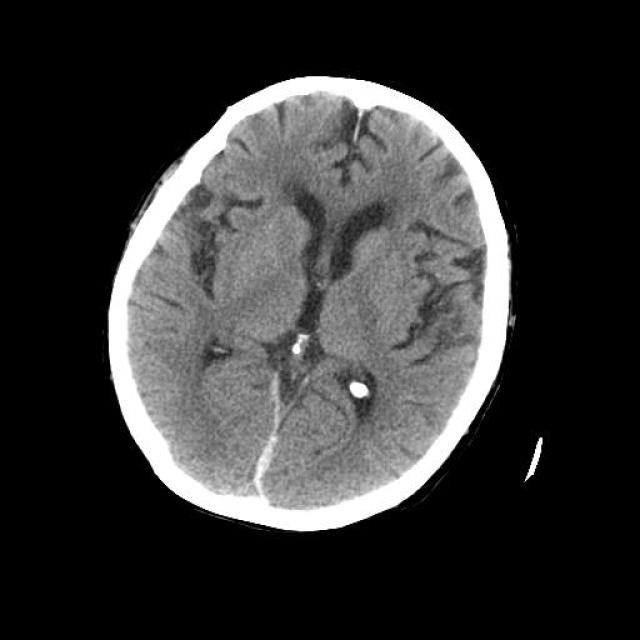Subdural: (216, 376, 325, 529)
